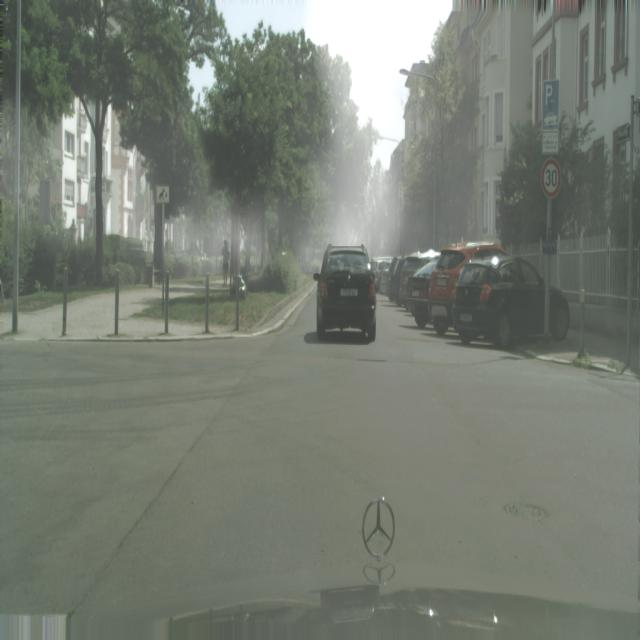bus: (222, 238, 230, 286)
person: (452, 254, 570, 349), (427, 241, 508, 336), (314, 243, 377, 342), (404, 252, 441, 328), (397, 251, 434, 307), (385, 255, 406, 303), (372, 256, 393, 292)
